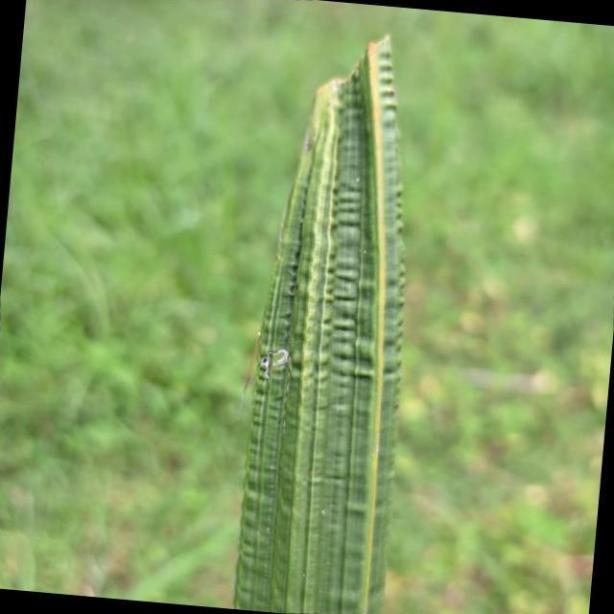Boron: (231, 25, 420, 614)
